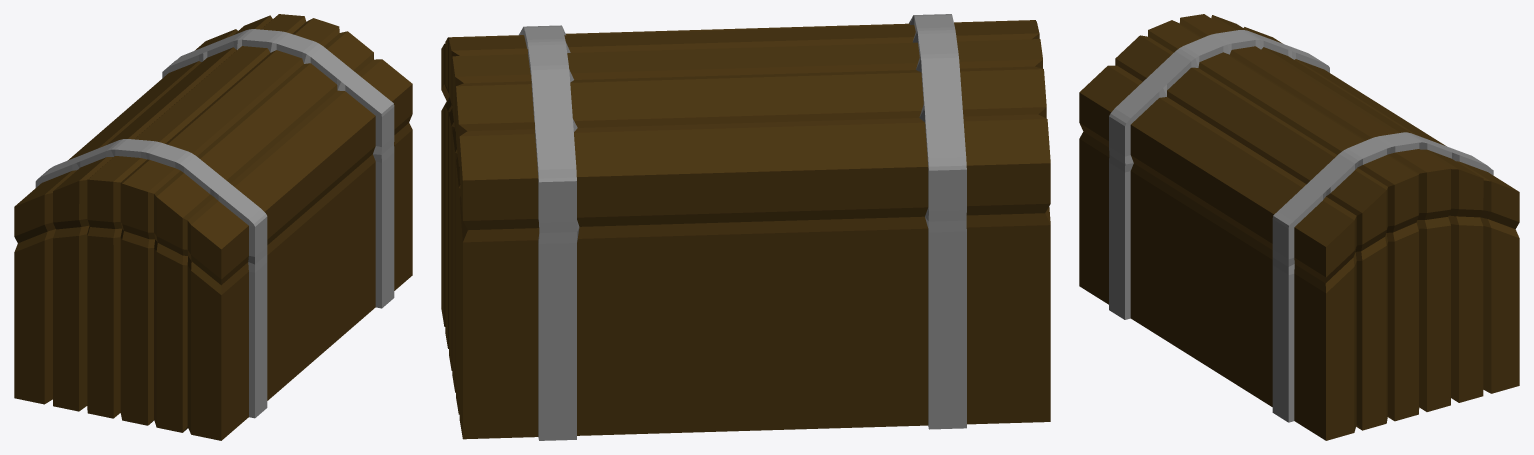
Rendered from chest.fbx.
3 renders of one model, left to right at view 1: azimuth 30°, elevation 25°; view 2: azimuth 150°, elevation 25°; view 3: azimuth 270°, elevation 25°, orthographic. The views are drawn at different scales.
Visible parts, largest first — view 1: Chest.002; view 2: Chest.002; view 3: Chest.002.
Boxes of the visible parts, x1=… form: Chest.002: x1=14, y1=14, x2=412, y2=440; Chest.002: x1=441, y1=14, x2=1050, y2=440; Chest.002: x1=1079, y1=14, x2=1519, y2=440.
Size of the model in its own units: 213 by 117 by 189.
